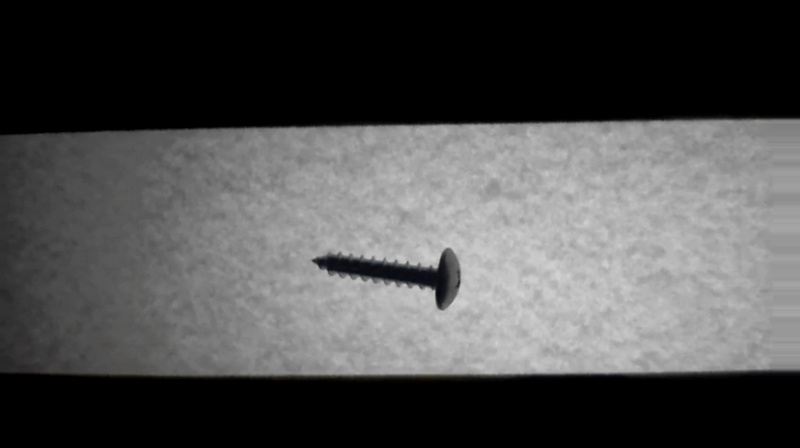S003: (309, 247, 465, 312)
